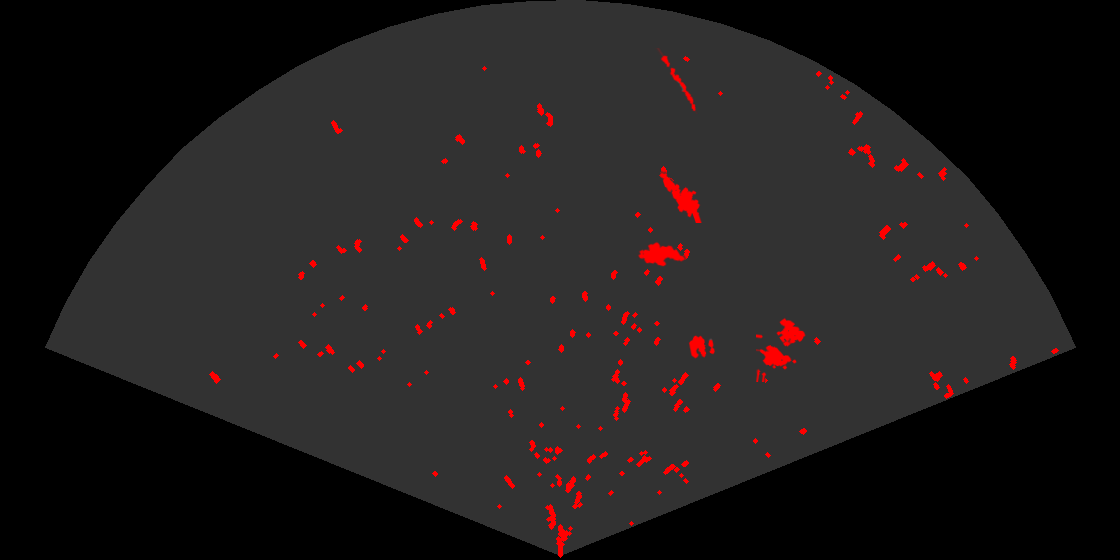AUV: (636, 240, 687, 268)
ball: (687, 334, 716, 360)
cage: (756, 316, 807, 382)
chain: (655, 48, 699, 114)
frogman: (658, 170, 703, 223)
